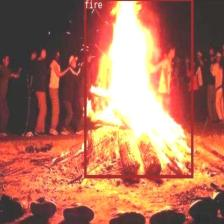fire: (83, 0, 192, 177)
